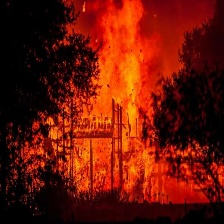fire: (68, 1, 152, 193)
